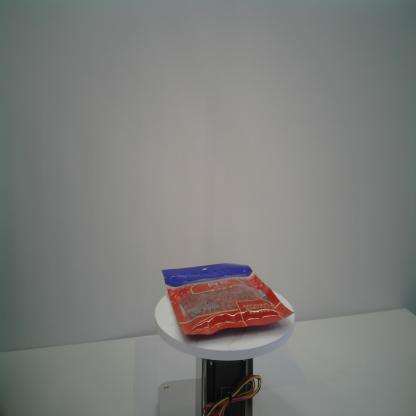Dried Fruit: (161, 262, 295, 339)
